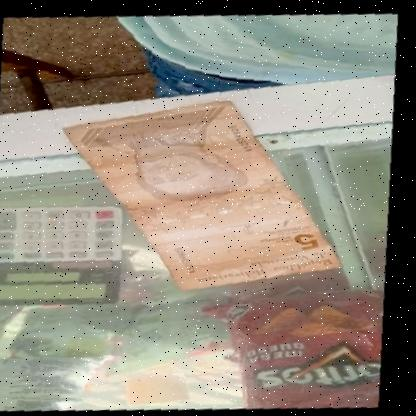five-front-vef: (51, 85, 361, 305)
